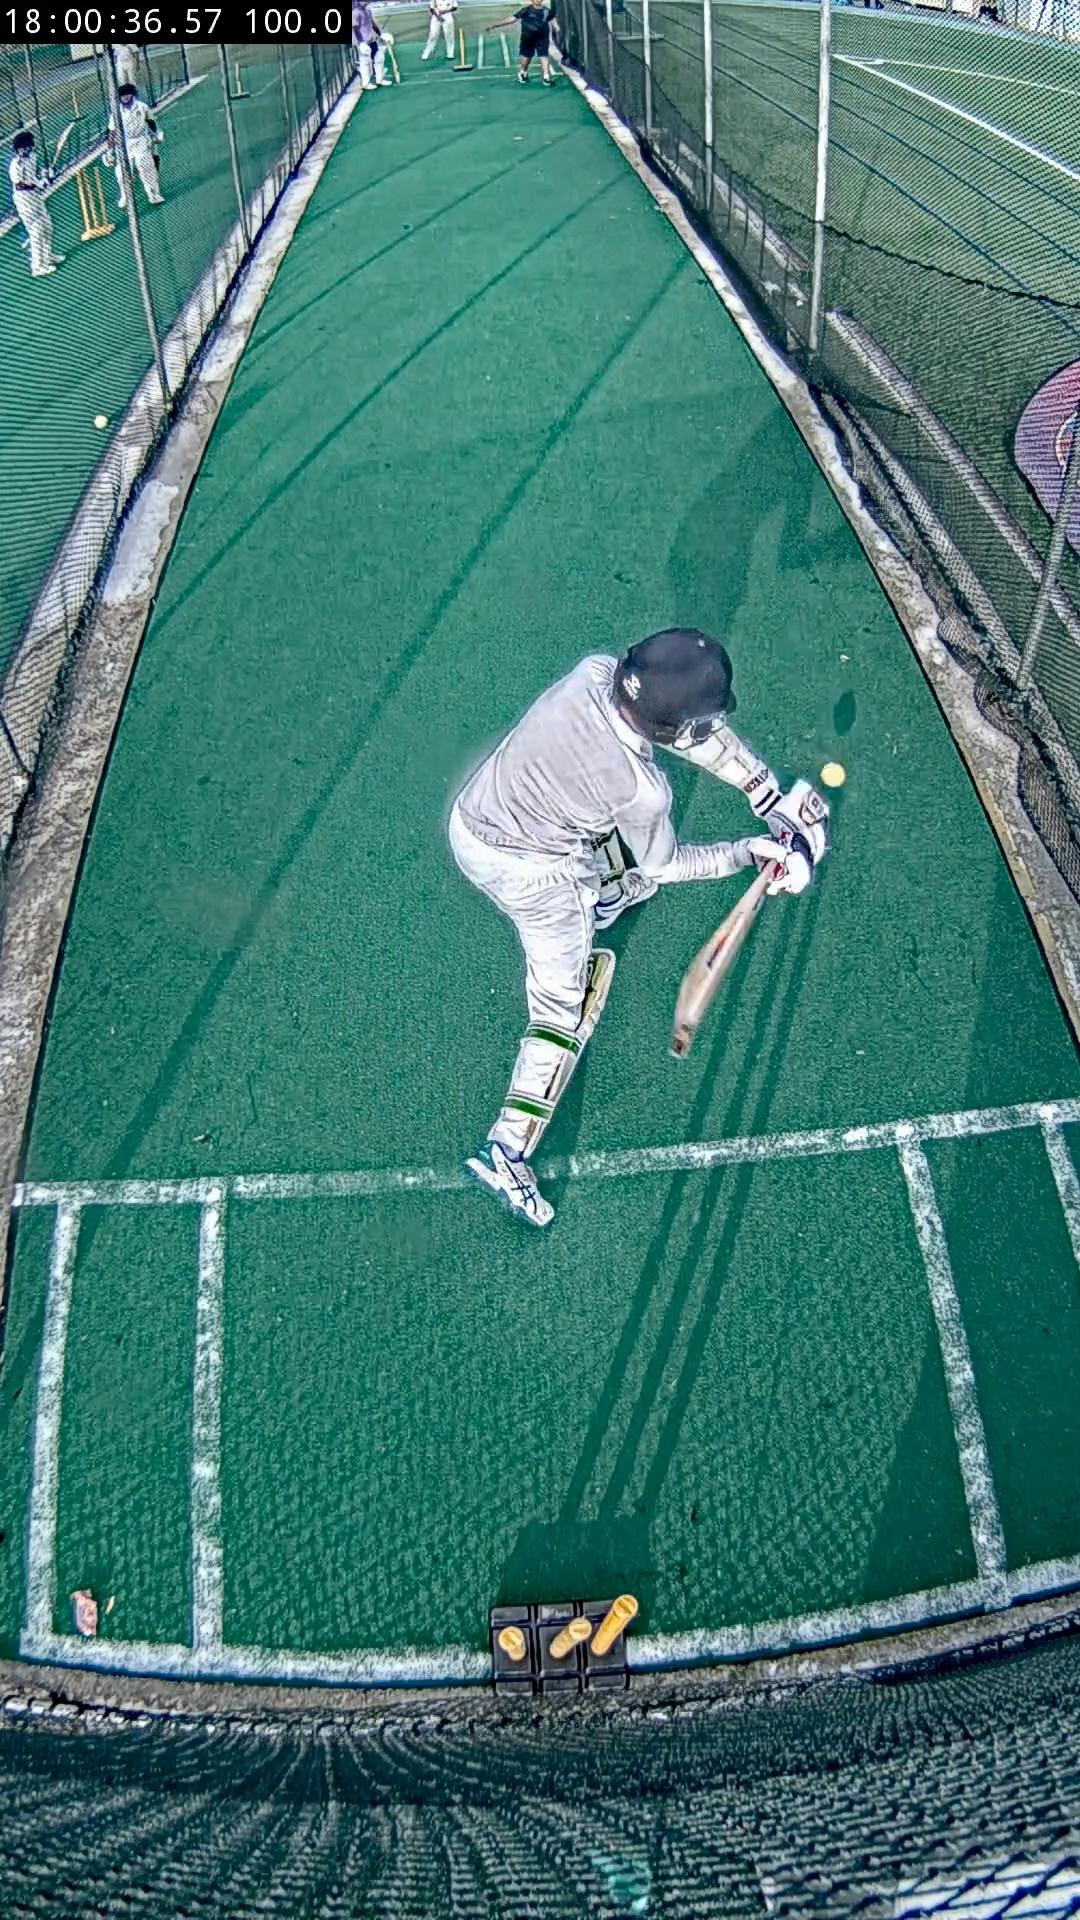ball: (822, 761, 848, 787)
bat: (671, 862, 777, 1056)
gloves: (750, 781, 828, 894)
helmet: (615, 626, 735, 746)
pads: (547, 948, 615, 1112)
stumps: (492, 1594, 637, 1695)
